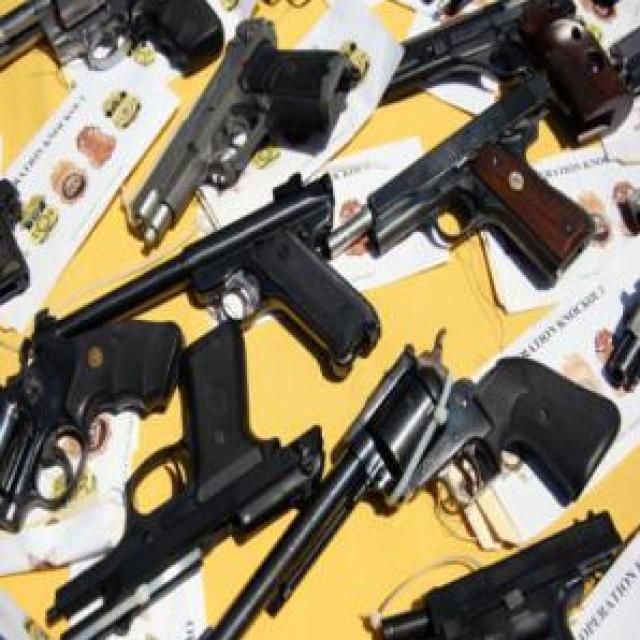pistol: (194, 322, 632, 640), (47, 322, 334, 635), (30, 174, 384, 378), (118, 11, 367, 260), (329, 75, 598, 286), (2, 302, 182, 548), (373, 0, 640, 151), (2, 0, 222, 126)
